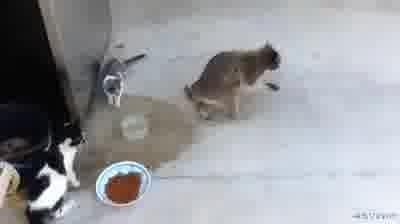raccoon: (182, 41, 286, 123)
